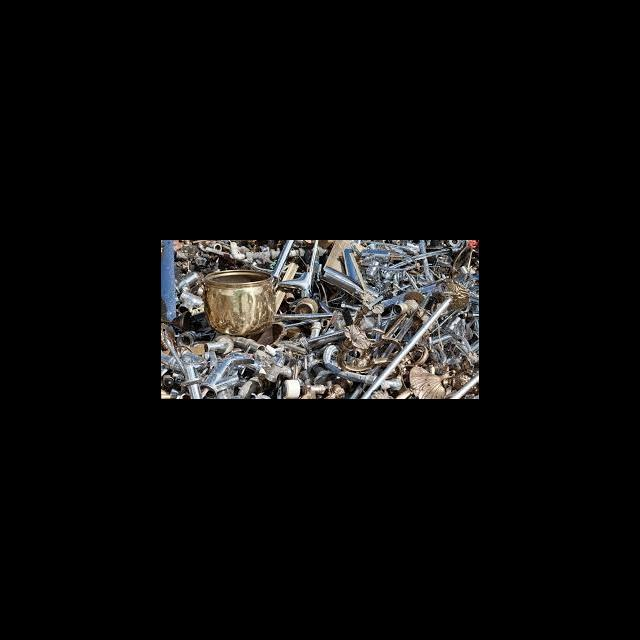metal: (349, 277, 472, 398), (193, 264, 289, 342), (315, 341, 407, 394), (315, 260, 386, 312), (194, 348, 259, 398), (270, 306, 394, 324), (297, 324, 361, 348), (277, 266, 315, 302), (441, 362, 478, 398), (167, 268, 204, 298), (176, 364, 206, 398), (268, 240, 294, 276), (202, 332, 234, 358), (388, 292, 420, 316), (263, 362, 294, 384), (279, 376, 303, 398)
